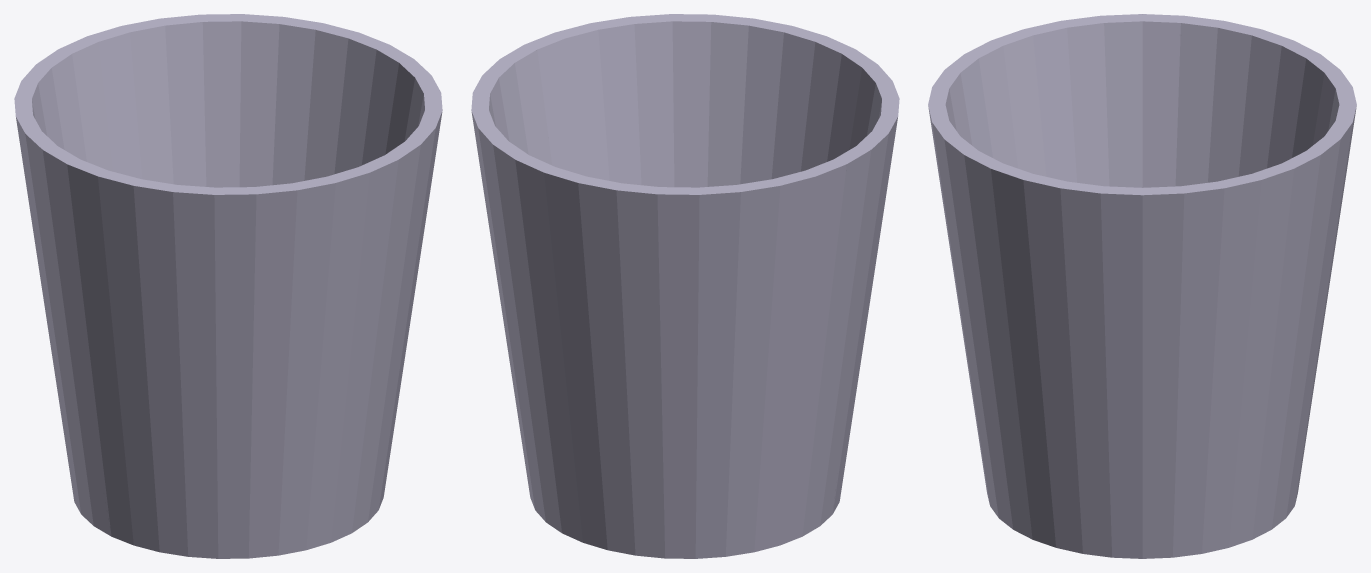
File: kosz.glb
3 views of the same model, side by side, from view 1: azimuth 30°, elevation 25°; view 2: azimuth 150°, elevation 25°; view 3: azimuth 270°, elevation 25° (orthographic).
Parts seen in each view (by area): view 1: biurko.070; view 2: biurko.070; view 3: biurko.070.
Part boxes in pixels (x1,y1,x2,y2): biurko.070: (14, 14, 442, 558); biurko.070: (471, 14, 899, 558); biurko.070: (928, 14, 1356, 558).
Bounding box in the file's own units: 0.8444 × 0.8444 × 0.8444.
Materials: 1 (1 with a texture image).
